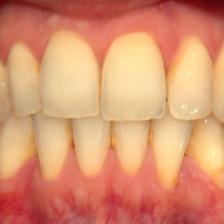cavity: (163, 57, 177, 85), (107, 122, 120, 151), (65, 128, 82, 149), (146, 121, 157, 144)
